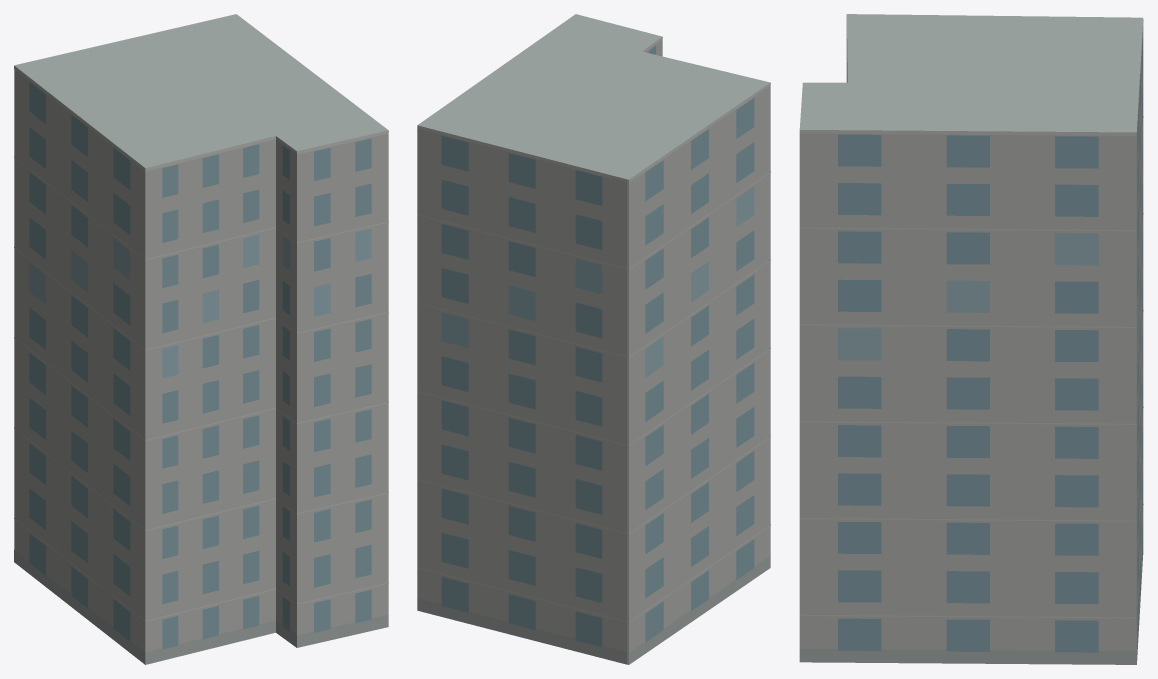
File: survey-upis-32816515.glb
The picture shows the model from 3 angles, left to right: view 1: azimuth 30°, elevation 25°; view 2: azimuth 150°, elevation 25°; view 3: azimuth 270°, elevation 25°; orthographic projection. The views are drawn at different scales.
Visible parts, largest first — view 1: survey-upis-32816515.tmp; view 2: survey-upis-32816515.tmp; view 3: survey-upis-32816515.tmp.
Part boxes in pixels (x1,y1,x2,y2): survey-upis-32816515.tmp: (14,14,388,664); survey-upis-32816515.tmp: (417,14,770,664); survey-upis-32816515.tmp: (799,14,1143,664).
Size of the model in its own units: 17.2 by 36 by 21.08.
